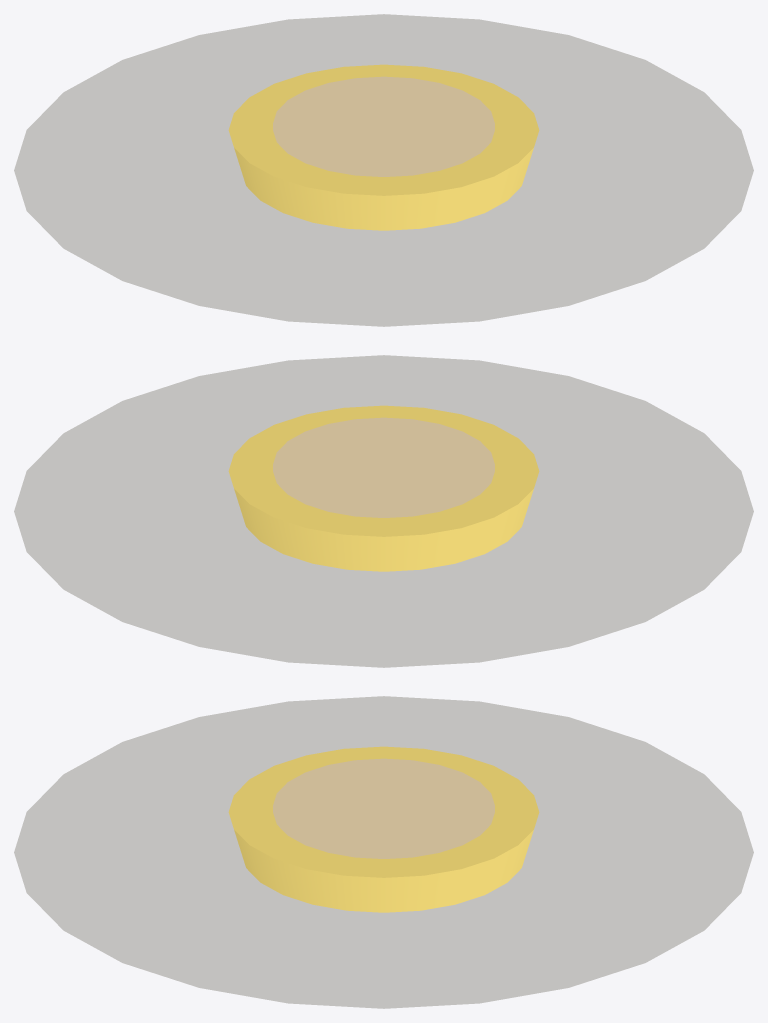
Rendered from arepa.glb.
3 views of the same model, one above another, from view 1: azimuth 30°, elevation 25°; view 2: azimuth 150°, elevation 25°; view 3: azimuth 270°, elevation 25° (orthographic).
Visible parts, largest first — view 1: plato, arepa, relleno; view 2: plato, arepa, relleno; view 3: plato, arepa, relleno.
Boxes of the visible parts, x1=… form: plato: x1=14, y1=14, x2=753, y2=326; arepa: x1=228, y1=64, x2=539, y2=230; relleno: x1=273, y1=76, x2=494, y2=176; plato: x1=14, y1=355, x2=753, y2=667; arepa: x1=228, y1=405, x2=539, y2=571; relleno: x1=273, y1=417, x2=494, y2=517; plato: x1=14, y1=696, x2=753, y2=1008; arepa: x1=228, y1=746, x2=539, y2=912; relleno: x1=273, y1=758, x2=494, y2=858.
Bounding box in the file's own units: 2 × 0.23 × 2.
